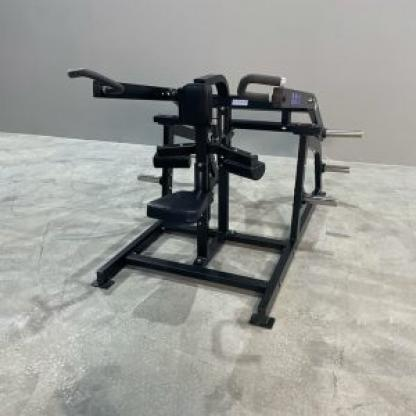seated dip machine: (67, 65, 364, 332)
